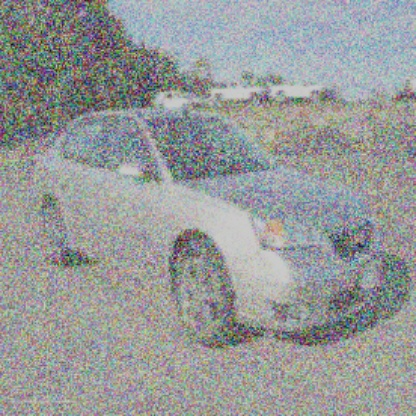Vehicle: (31, 113, 387, 338)
